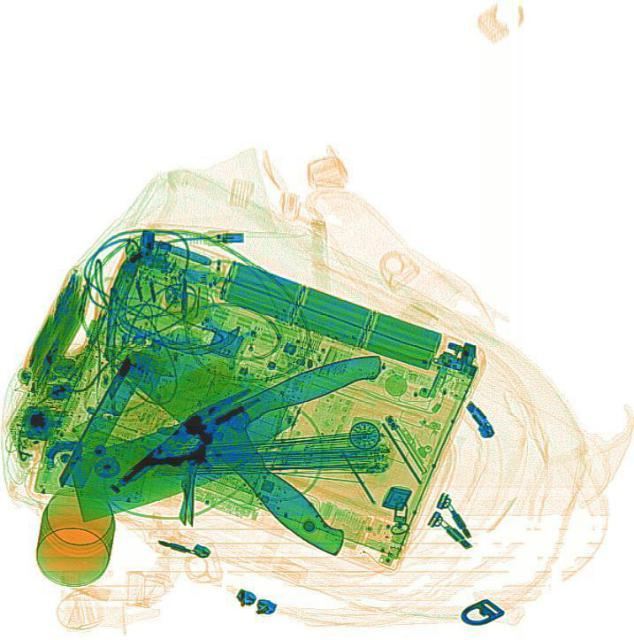Knife: (113, 308, 387, 564), (58, 346, 401, 522)
